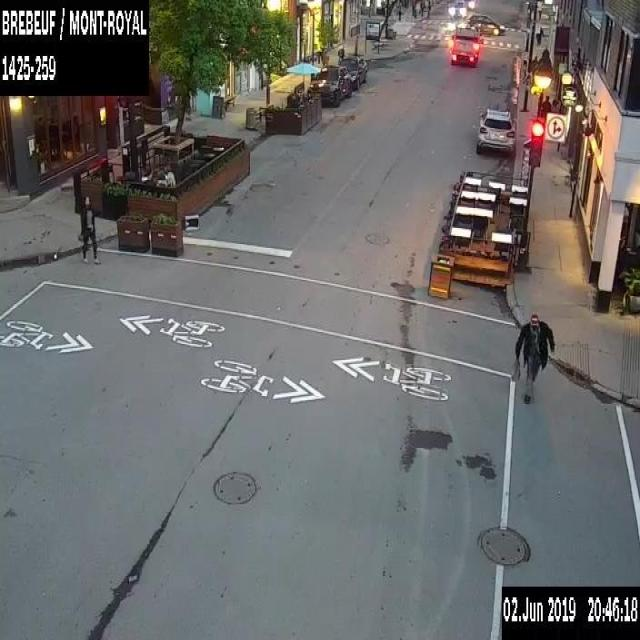pedestrian: (514, 311, 556, 401), (79, 193, 100, 266)
vehicle: (475, 106, 515, 160), (304, 64, 351, 104), (450, 26, 480, 66), (336, 53, 367, 90), (466, 12, 504, 34), (447, 0, 468, 19)
